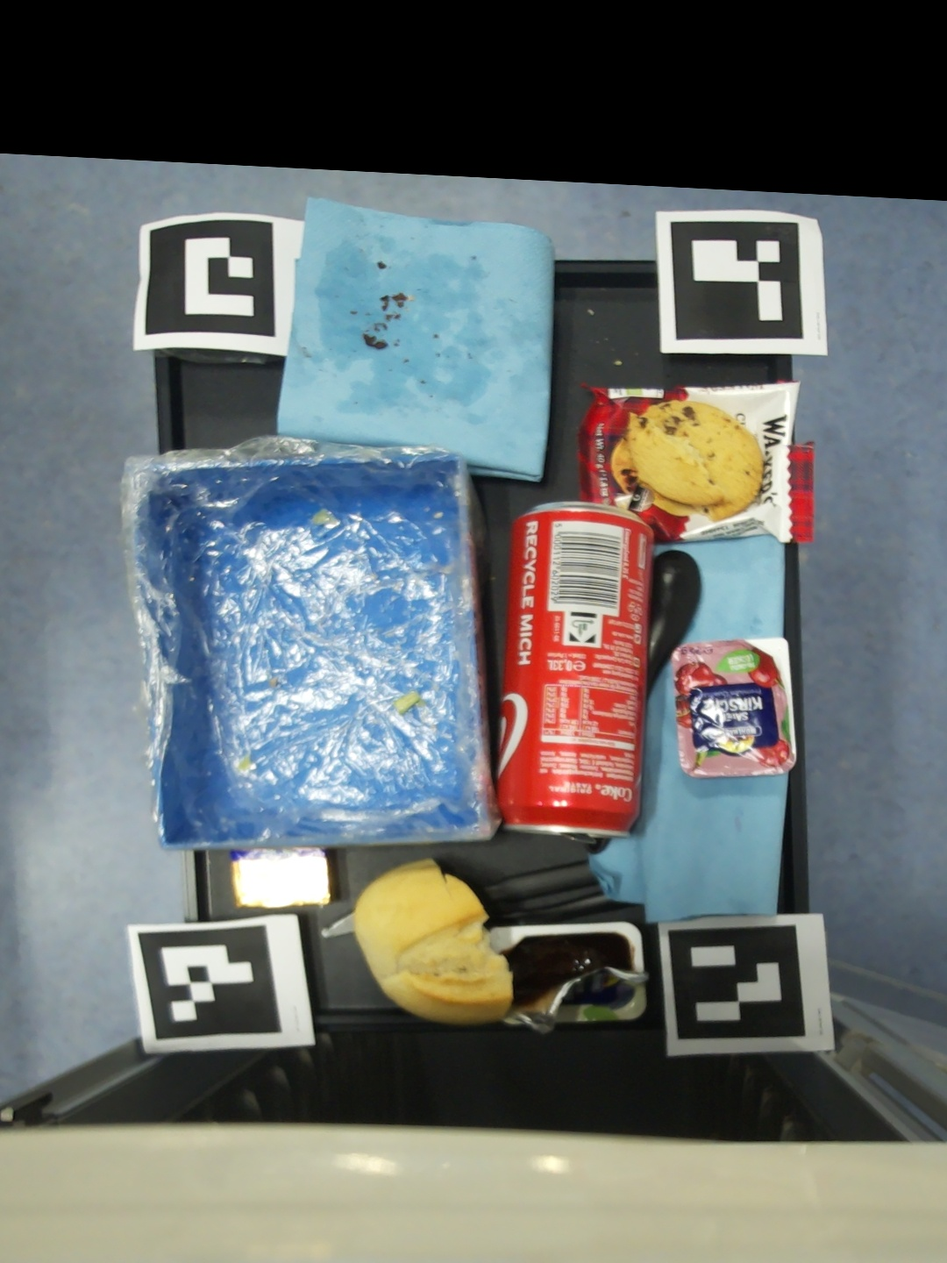bread_roll: (351, 858, 513, 1025)
butter: (229, 847, 335, 909)
cherry_jam: (671, 638, 796, 778)
cola_can: (501, 501, 651, 839)
cookie: (577, 380, 815, 545)
plum_jam: (490, 922, 648, 1036)
wrap_half_1: (394, 691, 424, 714), (313, 509, 338, 525), (238, 757, 252, 771), (270, 675, 278, 687)
